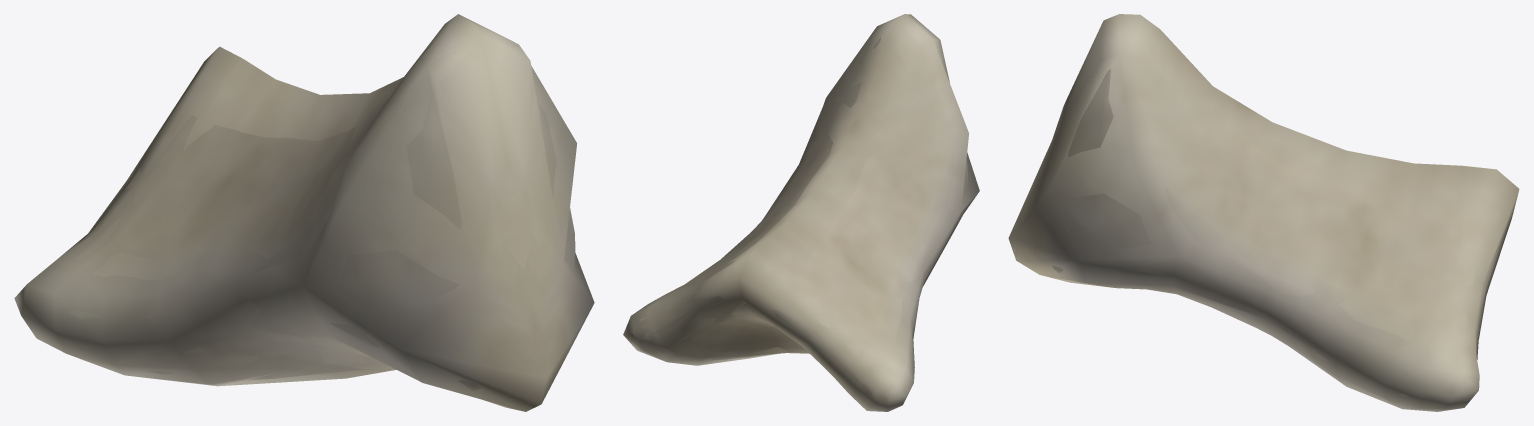
The model's file is vertebrae caudales 04.fbx.
The picture shows the model from 3 angles, left to right: view 1: azimuth 30°, elevation 25°; view 2: azimuth 150°, elevation 25°; view 3: azimuth 270°, elevation 25°; orthographic projection. The views are drawn at different scales.
Visible parts, largest first — view 1: vertebrae caudales 04, vertebrae caudales 04 high, vertebrae caudales 04 low; view 2: vertebrae caudales 04, vertebrae caudales 04 high, vertebrae caudales 04 low; view 3: vertebrae caudales 04, vertebrae caudales 04 high, vertebrae caudales 04 low.
Part boxes in pixels (x1,y1,x2,y2): vertebrae caudales 04: (14,14,594,411); vertebrae caudales 04 high: (69,41,575,390); vertebrae caudales 04 low: (22,18,592,409); vertebrae caudales 04: (623,14,979,411); vertebrae caudales 04 high: (639,27,968,401); vertebrae caudales 04 low: (625,14,973,411); vertebrae caudales 04: (1008,14,1519,411); vertebrae caudales 04 high: (1042,37,1501,396); vertebrae caudales 04 low: (1011,14,1518,410).
Bounding box in the file's own units: 1.21 × 1.18 × 1.58.
Materials: 1 (1 with a texture image).
